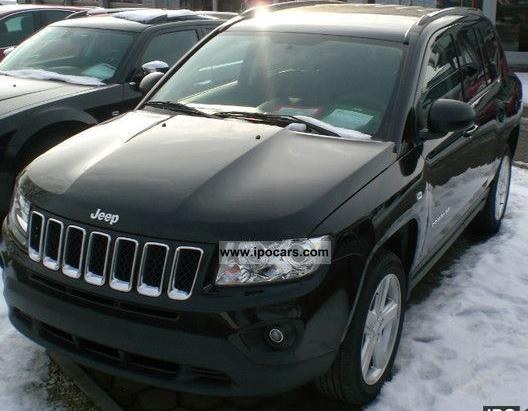front_view: (0, 175, 344, 398)
side_glass: (415, 14, 509, 138)
